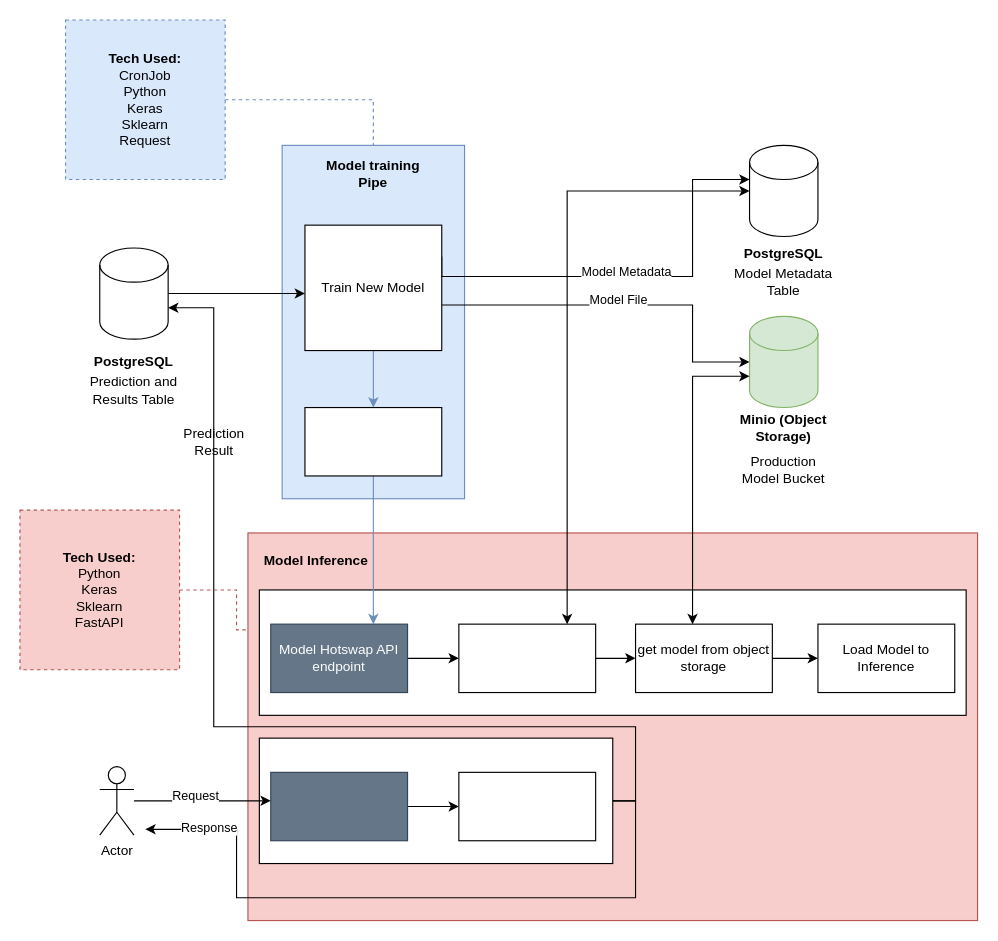
This 998x941 diagram has some shape labels left out. Each missing label, with the centre of its shape:
Call for Model Hotswap: point (373, 441)
get metadata for latest model: point (527, 658)
Prediction: point (527, 806)
Prediction End Point: point (339, 806)
